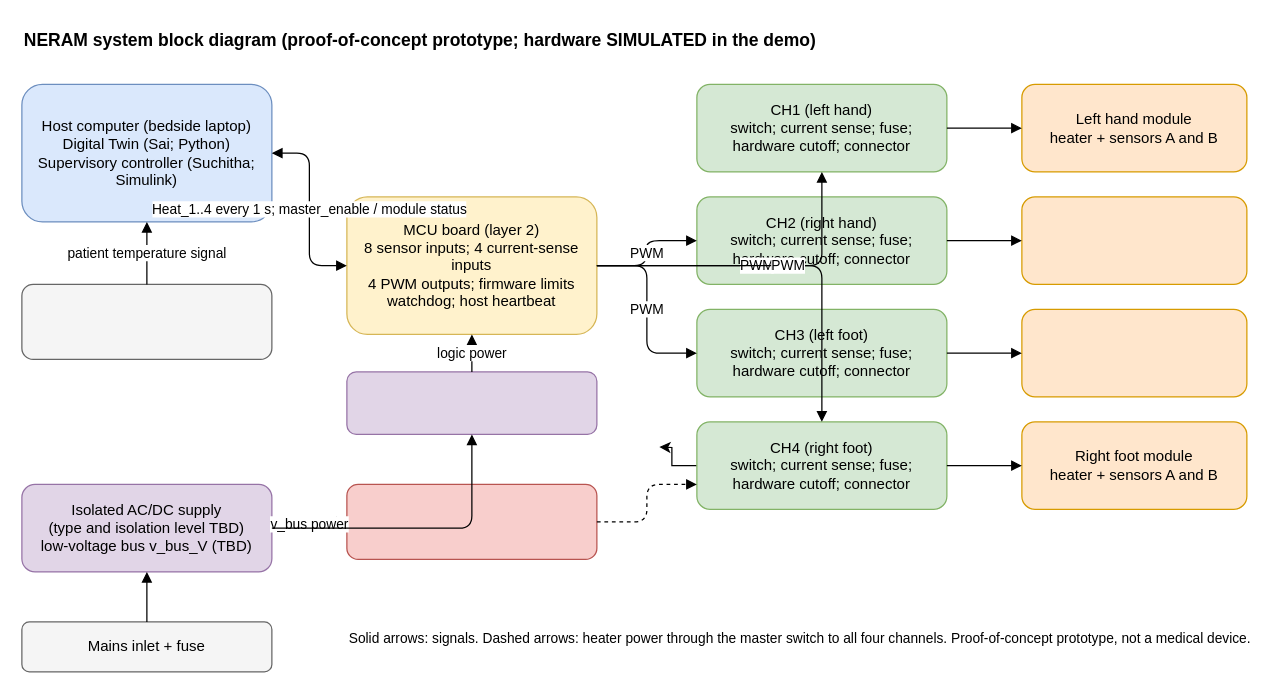
Some shapes in this 1273 by 694 pixel diagram are drawn without their labels. Here are the shapes that lost their labels. From the top down, the box of each, then its label:
(1021, 196, 1247, 284): Right hand module heater + sensors A and B
(21, 283, 272, 359): Patient-observation interface (prototype: replay of development-set data)
(1021, 308, 1247, 397): Left foot module heater + sensors A and B
(346, 371, 597, 434): DC/DC regulator logic supply
(346, 483, 597, 559): Master safety switch (default open) opened by hardware cutoff; watchdog; or MCU
